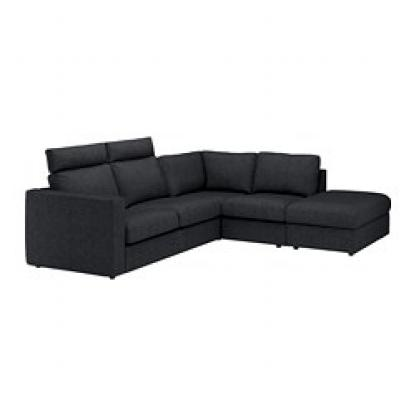Sofa: (15, 110, 394, 298)
